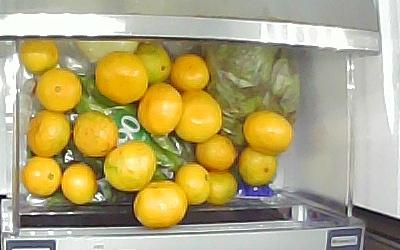tangerine: (96, 51, 148, 105), (171, 89, 222, 143), (103, 141, 158, 191), (133, 182, 187, 230), (137, 83, 183, 136), (243, 111, 295, 155), (74, 111, 118, 157), (27, 112, 70, 159), (35, 71, 81, 113), (134, 43, 172, 87), (194, 134, 240, 170), (169, 53, 212, 91), (22, 156, 61, 196), (240, 147, 279, 186), (62, 162, 98, 202), (17, 41, 60, 74), (177, 164, 210, 206), (203, 171, 238, 205)
